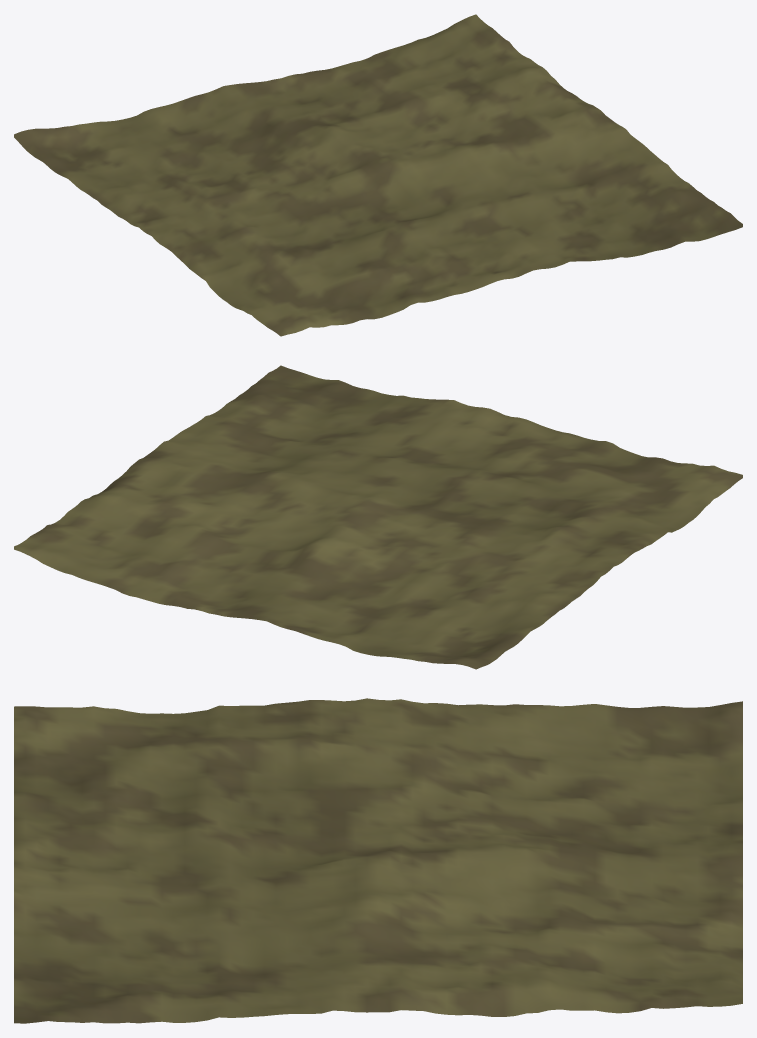
File: land_f_07_02.glb
The picture shows the model from 3 angles, top to bottom: view 1: azimuth 30°, elevation 25°; view 2: azimuth 150°, elevation 25°; view 3: azimuth 270°, elevation 25°; orthographic projection. The views are drawn at different scales.
Parts seen in each view (by area): view 1: land_f_07_02; view 2: land_f_07_02; view 3: land_f_07_02.
Boxes of the visible parts, x1=… form: land_f_07_02: x1=14, y1=14, x2=742, y2=336; land_f_07_02: x1=14, y1=365, x2=742, y2=669; land_f_07_02: x1=14, y1=698, x2=742, y2=1023.
Bounding box in the file's own units: 3840 × 193 × 3840.
